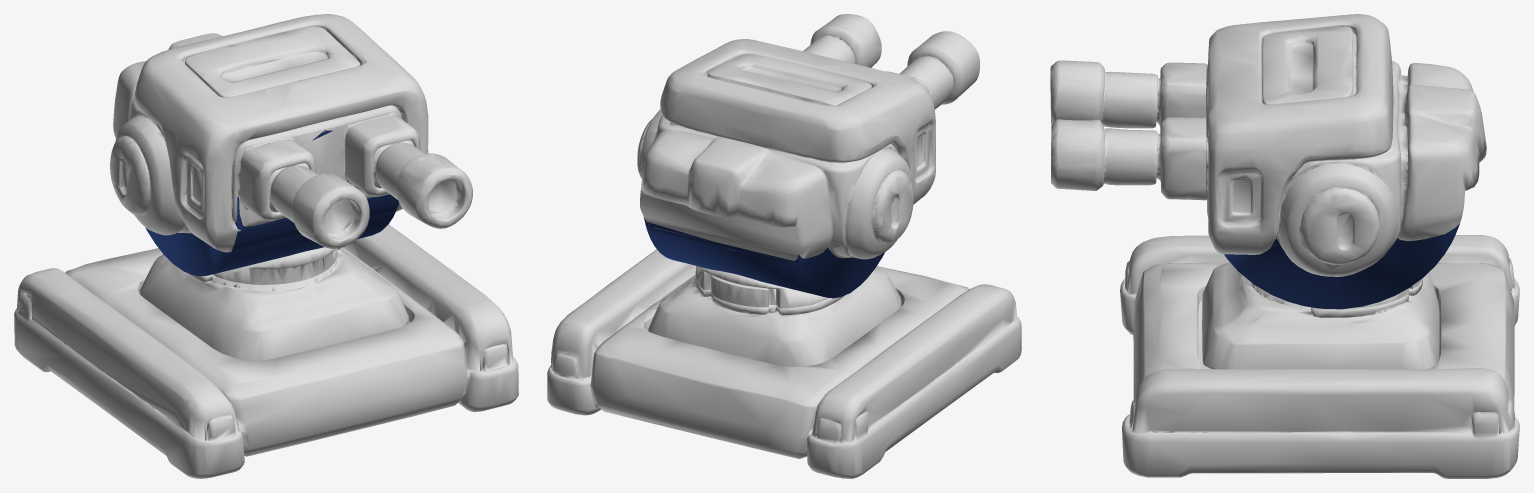
The model's file is cryo-gun-turret.glb.
The picture shows the model from 3 angles, left to right: view 1: azimuth 30°, elevation 25°; view 2: azimuth 150°, elevation 25°; view 3: azimuth 270°, elevation 25°; orthographic projection. The views are drawn at different scales.
Parts seen in each view (by area): view 1: base, pitch_assembly, barrel_cluster, yaw_head; view 2: base, pitch_assembly, barrel_cluster, yaw_head; view 3: base, pitch_assembly, barrel_cluster.
Part boxes in pixels (x1,y1,x2,y2): base: [14, 224, 518, 478]; pitch_assembly: [110, 14, 428, 276]; barrel_cluster: [240, 115, 472, 248]; yaw_head: [213, 247, 337, 284]; base: [547, 249, 1021, 478]; pitch_assembly: [637, 39, 935, 298]; barrel_cluster: [803, 14, 979, 109]; yaw_head: [695, 266, 828, 308]; base: [1120, 235, 1519, 478]; pitch_assembly: [1206, 14, 1486, 309]; barrel_cluster: [1050, 60, 1205, 200].
Bounding box in the file's own units: 1.61 × 1.51 × 1.9.
